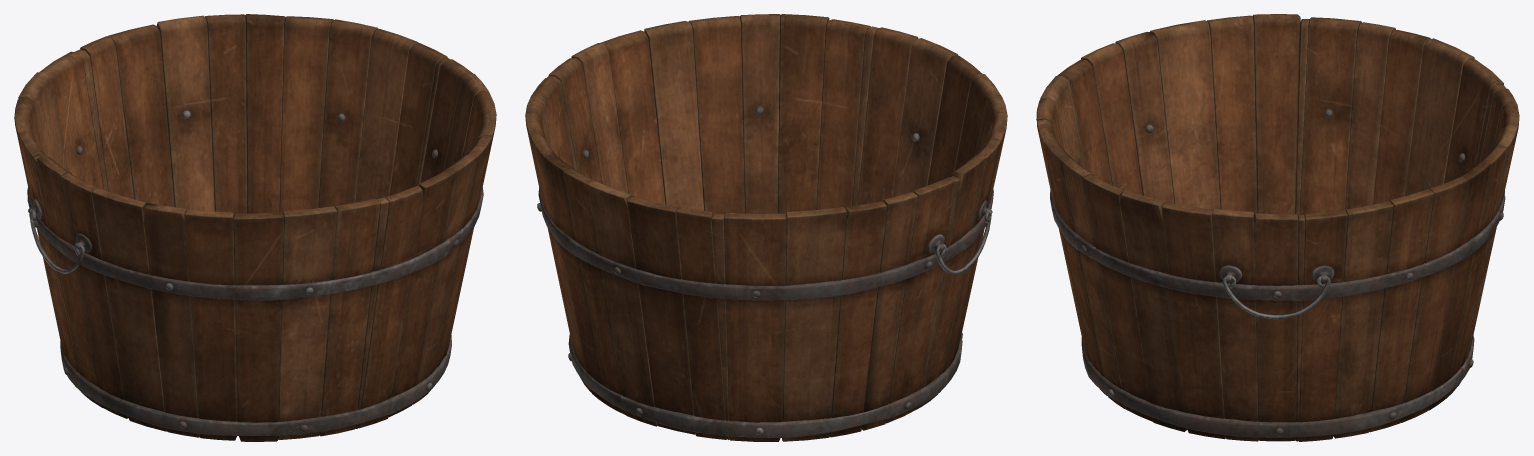
Rendered from wooden_bucket_02_1k.gltf.
3 renders of one model, left to right at view 1: azimuth 30°, elevation 25°; view 2: azimuth 150°, elevation 25°; view 3: azimuth 270°, elevation 25°, orthographic.
Visible parts, largest first — view 1: wooden_bucket_02, wooden_bucket_02_handle_01; view 2: wooden_bucket_02, wooden_bucket_02_handle_01; view 3: wooden_bucket_02, wooden_bucket_02_handle_02.
Boxes of the visible parts, bbox=[...] form: wooden_bucket_02: bbox=[14, 14, 496, 441]; wooden_bucket_02_handle_01: bbox=[29, 210, 84, 273]; wooden_bucket_02: bbox=[525, 14, 1007, 441]; wooden_bucket_02_handle_01: bbox=[935, 211, 991, 274]; wooden_bucket_02: bbox=[1036, 14, 1519, 441]; wooden_bucket_02_handle_02: bbox=[1222, 275, 1330, 319].
Size of the model in its own units: 0.6153 by 0.3504 by 0.6163.
1 material, 1 textured.
